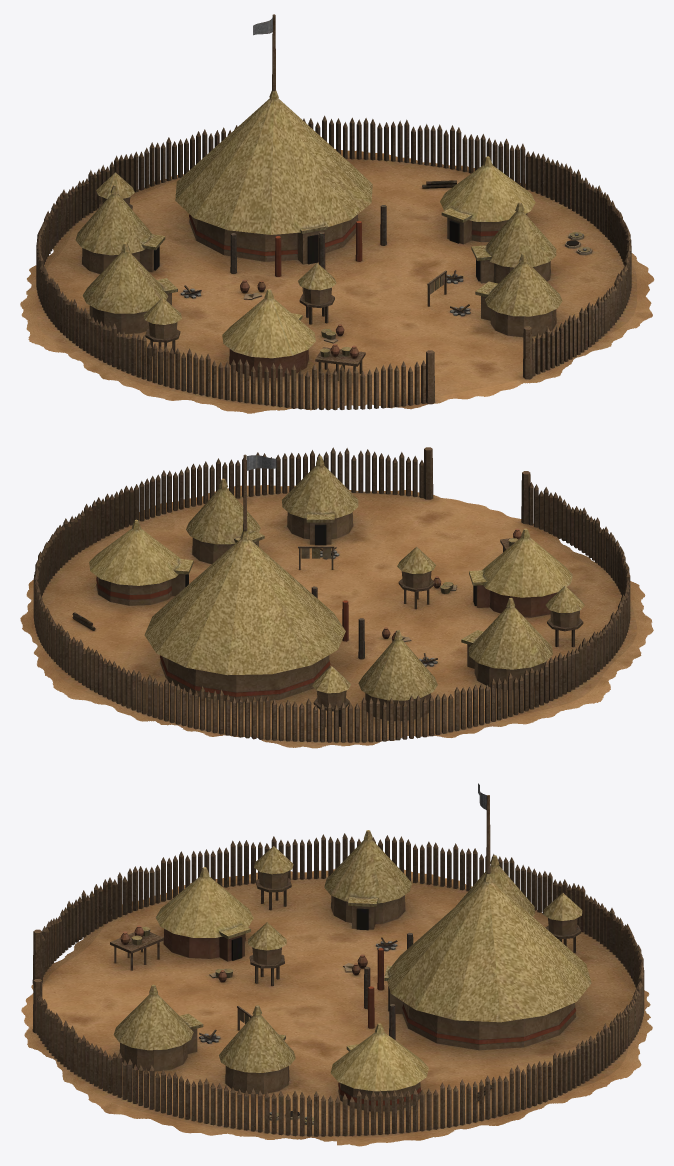
The model's file is stone-town-small-a.glb.
3 views of the same model, one above another, from view 1: azimuth 30°, elevation 25°; view 2: azimuth 150°, elevation 25°; view 3: azimuth 270°, elevation 25° (orthographic). The views are drawn at different scales.
Parts seen in each view (by area): view 1: LOD0; view 2: LOD0; view 3: LOD0.
Boxes of the visible parts, <box> form: LOD0: <box>20,14,654,413</box>; LOD0: <box>20,447,653,748</box>; LOD0: <box>21,783,652,1146</box>.
Size of what is drawn, in the model's own units: 4.01 by 1.45 by 3.82.
Materials: 3 (3 with a texture image).
